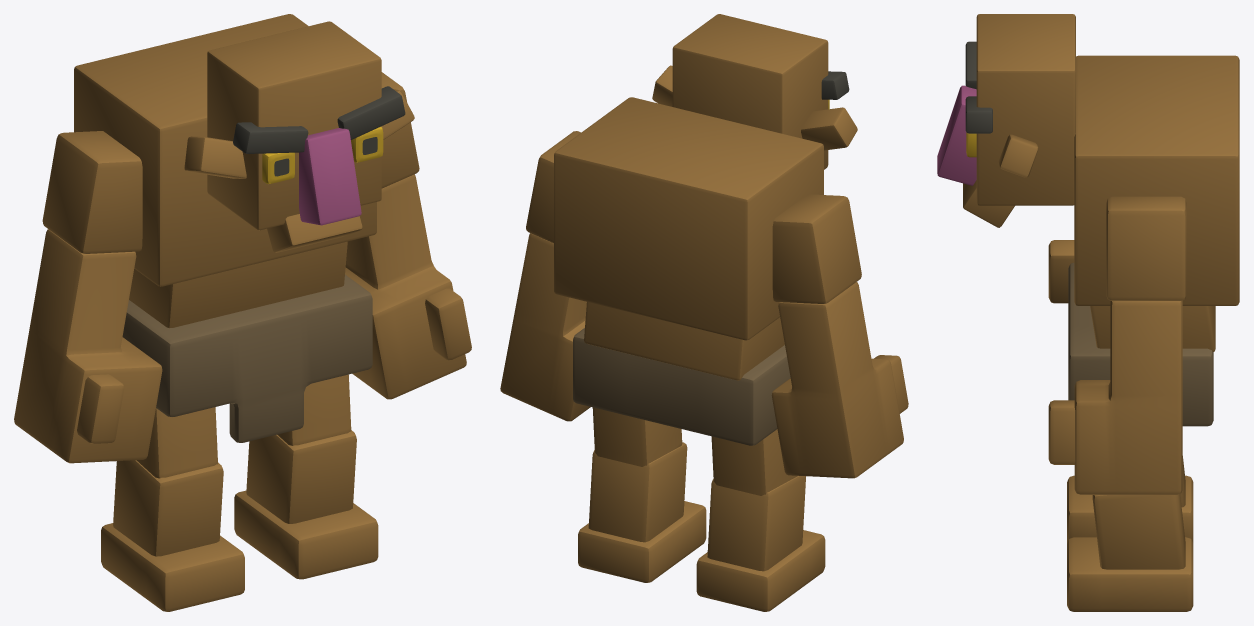
The model's file is stylized-static.glb.
The picture shows the model from 3 angles, left to right: view 1: azimuth 30°, elevation 25°; view 2: azimuth 150°, elevation 25°; view 3: azimuth 270°, elevation 25°; orthographic projection. The views are drawn at different scales.
Visible parts, largest first — view 1: Giant; view 2: Giant; view 3: Giant.
Part boxes in pixels (x1,y1,x2,y2): Giant: (14, 14, 471, 611); Giant: (500, 14, 908, 611); Giant: (937, 14, 1239, 611).
Bounding box in the file's own units: 2.95 × 3.88 × 2.03.
Materials: 1 (1 with a texture image).
